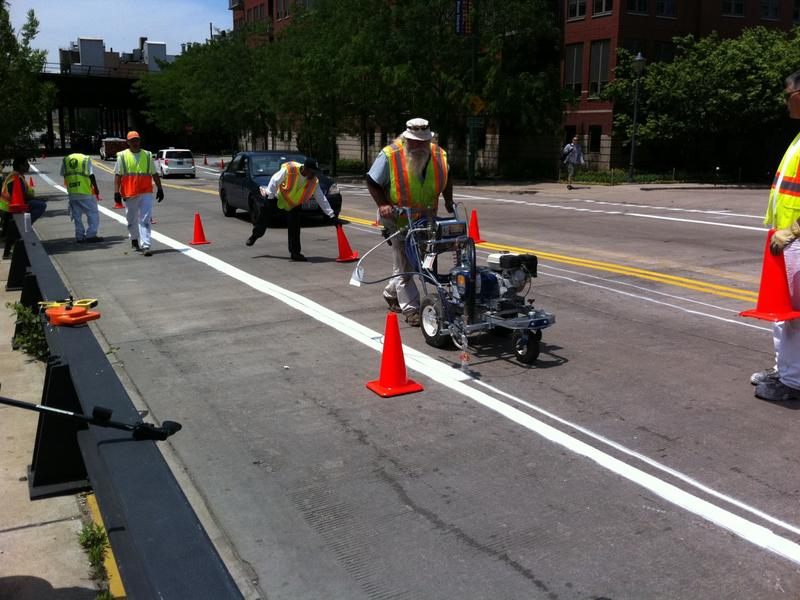Cone: (366, 312, 424, 398), (333, 224, 360, 261), (467, 209, 490, 243), (189, 211, 211, 245), (29, 178, 35, 187), (220, 160, 225, 169)
